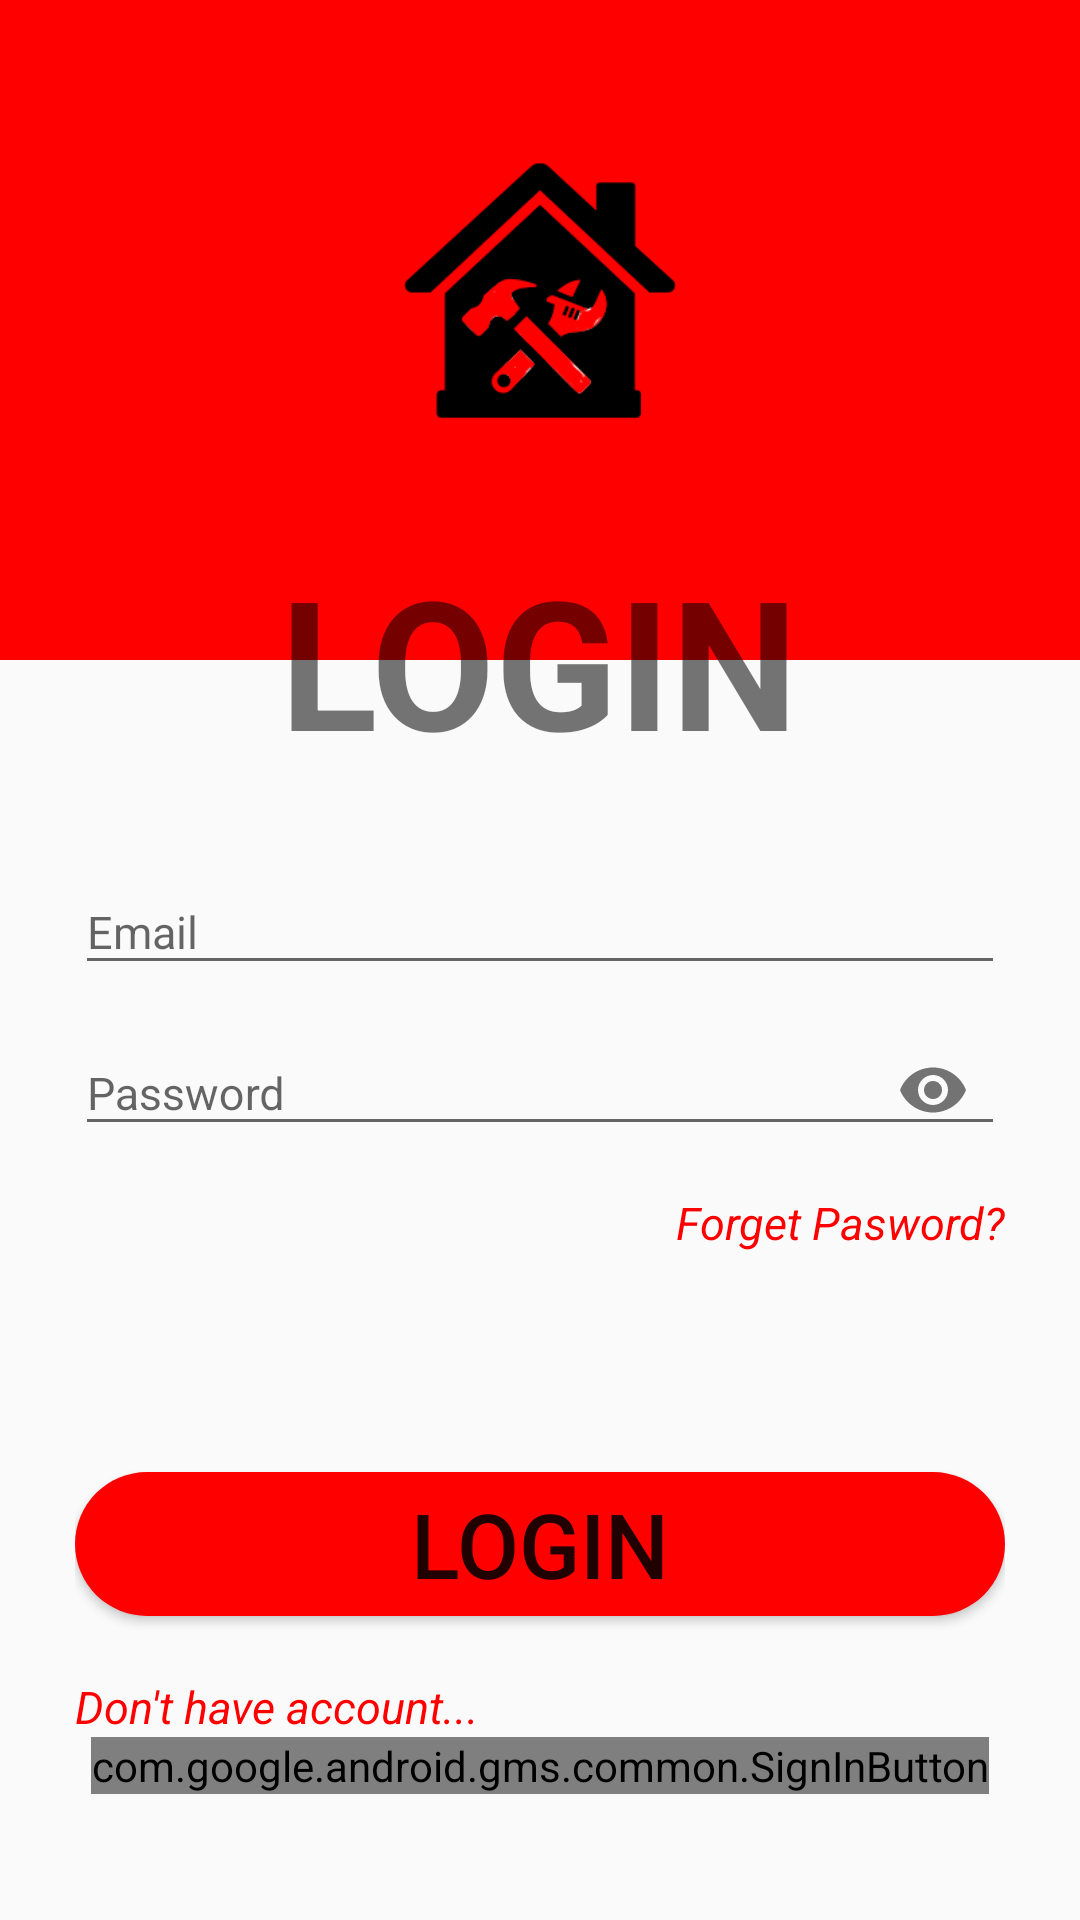

Icons on this 1080px×1920px Android screen, each with the point to tap as (x,y):
homeicon: (540,290)
